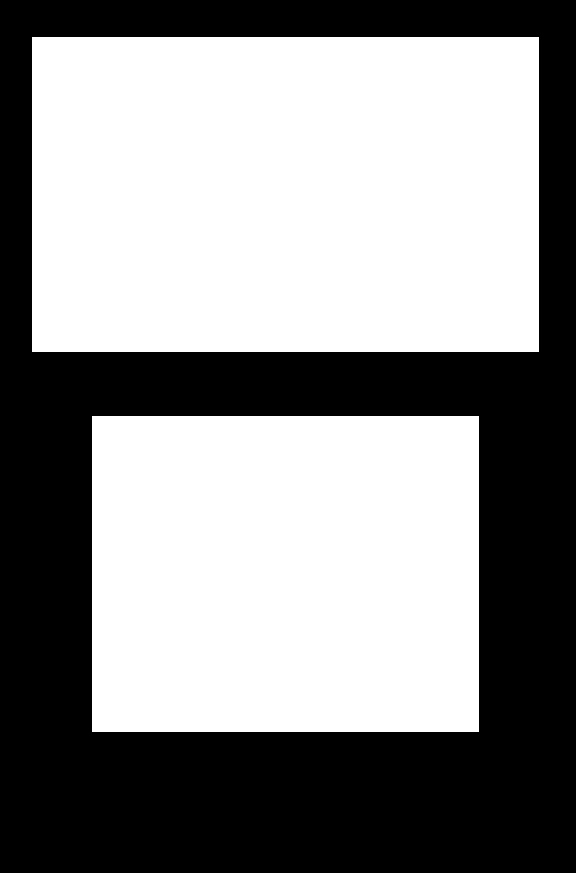table: (32, 37, 538, 351), (92, 416, 478, 731)
